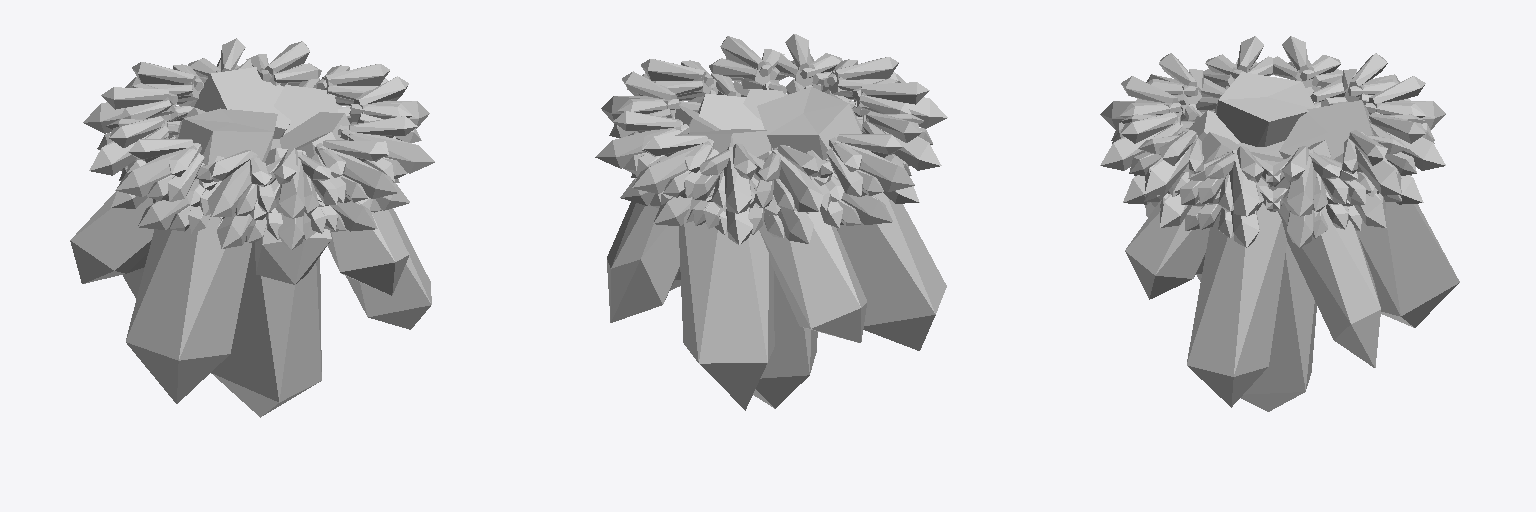
Rendered from crystals.obj.
3 renders of one model, left to right at view 1: azimuth 30°, elevation 25°; view 2: azimuth 150°, elevation 25°; view 3: azimuth 270°, elevation 25°, orthographic.
Parts seen in each view (by area): view 1: Icosphere.033_Icosphere.034, Icosphere.032_Icosphere.033, Icosphere.034_Icosphere.035, Icosphere.039_Icosphere.040, Icosphere.035_Icosphere.036, Icosphere.015_Icosphere.001, Icosphere.037_Icosphere.038, Icosphere.015_Icosphere.003, Icosphere.014_Icosphere.003, Icosphere.014_Icosphere.001, Icosphere.015_Icosphere.007, Icosphere.036_Icosphere.037 (+17 smaller); view 2: Icosphere.037_Icosphere.038, Icosphere.033_Icosphere.034, Icosphere.039_Icosphere.040, Icosphere.038_Icosphere.039, Icosphere.032_Icosphere.033, Icosphere.015_Icosphere.001, Icosphere.014_Icosphere.003, Icosphere.015_Icosphere.003, Icosphere.014_Icosphere.001, Icosphere.015_Icosphere.007, Icosphere.014_Icosphere.007, Icosphere.034_Icosphere.035 (+17 smaller); view 3: Icosphere.034_Icosphere.035, Icosphere.037_Icosphere.038, Icosphere.038_Icosphere.039, Icosphere.032_Icosphere.033, Icosphere.033_Icosphere.034, Icosphere.035_Icosphere.036, Icosphere.015_Icosphere.007, Icosphere.014_Icosphere.007, Icosphere.014_Icosphere.003, Icosphere.015_Icosphere.003, Icosphere.014_Icosphere.001, Icosphere.015_Icosphere.001 (+16 smaller).
Boxes of the visible parts, box(x1,y1,x2,y2) form: Icosphere.033_Icosphere.034: box(126, 108, 277, 403); Icosphere.032_Icosphere.033: box(211, 139, 321, 417); Icosphere.034_Icosphere.035: box(280, 112, 431, 329); Icosphere.039_Icosphere.040: box(70, 107, 205, 283); Icosphere.035_Icosphere.036: box(295, 132, 409, 295); Icosphere.015_Icosphere.001: box(109, 64, 408, 159); Icosphere.037_Icosphere.038: box(123, 67, 290, 298); Icosphere.015_Icosphere.003: box(101, 41, 417, 181); Icosphere.014_Icosphere.003: box(83, 64, 434, 216); Icosphere.014_Icosphere.001: box(89, 77, 429, 196); Icosphere.015_Icosphere.007: box(132, 38, 386, 184); Icosphere.036_Icosphere.037: box(255, 148, 331, 284); Icosphere.037_Icosphere.038: box(675, 129, 774, 410); Icosphere.033_Icosphere.034: box(757, 87, 946, 350); Icosphere.039_Icosphere.040: box(754, 146, 866, 342); Icosphere.038_Icosphere.039: box(607, 105, 720, 322); Icosphere.032_Icosphere.033: box(753, 148, 817, 408); Icosphere.015_Icosphere.001: box(622, 59, 920, 154); Icosphere.014_Icosphere.003: box(595, 58, 947, 211); Icosphere.015_Icosphere.003: box(613, 36, 929, 176); Icosphere.014_Icosphere.001: box(601, 72, 941, 191); Icosphere.015_Icosphere.007: box(644, 34, 898, 179); Icosphere.014_Icosphere.007: box(632, 54, 905, 213); Icosphere.034_Icosphere.035: box(670, 94, 764, 290); Icosphere.034_Icosphere.035: box(1187, 151, 1286, 407); Icosphere.037_Icosphere.038: box(1279, 100, 1459, 327); Icosphere.038_Icosphere.039: box(1268, 140, 1380, 367); Icosphere.032_Icosphere.033: box(1238, 140, 1316, 411); Icosphere.033_Icosphere.034: box(1196, 72, 1315, 281); Icosphere.035_Icosphere.036: box(1125, 132, 1239, 299); Icosphere.015_Icosphere.007: box(1121, 76, 1425, 143); Icosphere.014_Icosphere.007: box(1100, 100, 1445, 170); Icosphere.014_Icosphere.003: box(1144, 74, 1401, 195); Icosphere.015_Icosphere.003: box(1159, 53, 1387, 165); Icosphere.014_Icosphere.001: box(1229, 60, 1316, 216); Icosphere.015_Icosphere.001: box(1237, 36, 1308, 182).
Size of the model in its own units: 5.03 by 4.8 by 4.99.